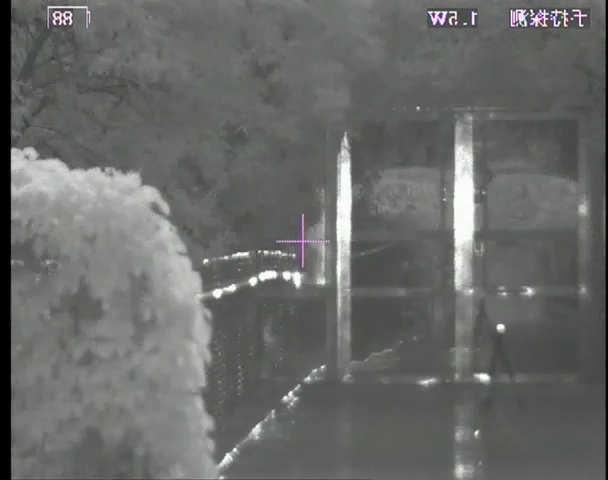my: (495, 323, 506, 334)
